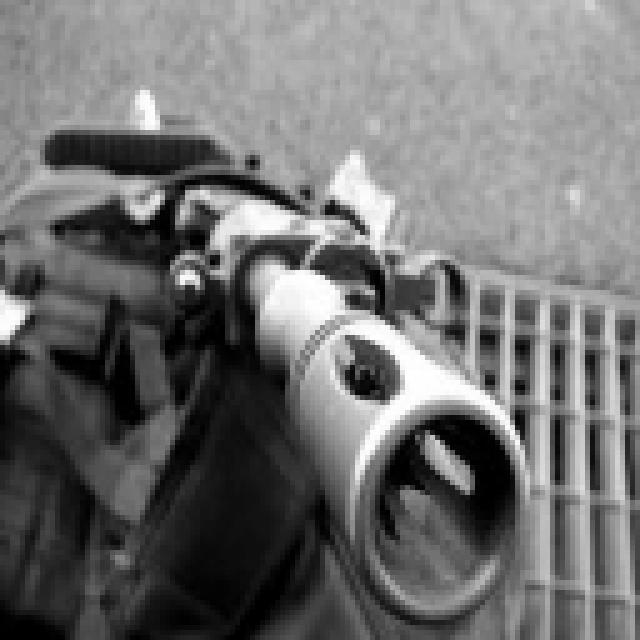Rifle: (1, 135, 565, 640)
